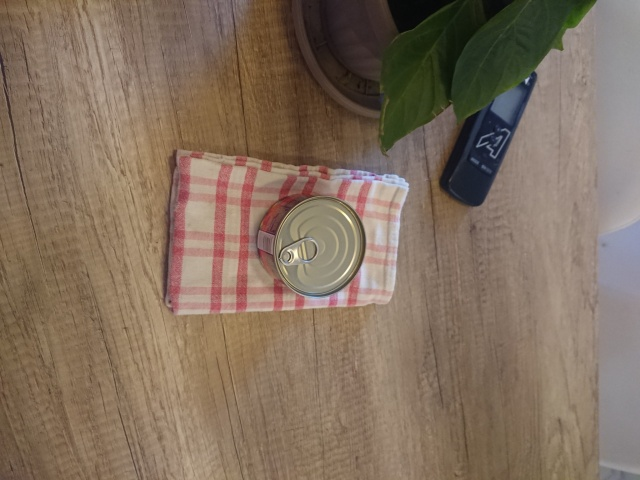Giana Tuna Salad Mexico 185g: (254, 190, 369, 300)
